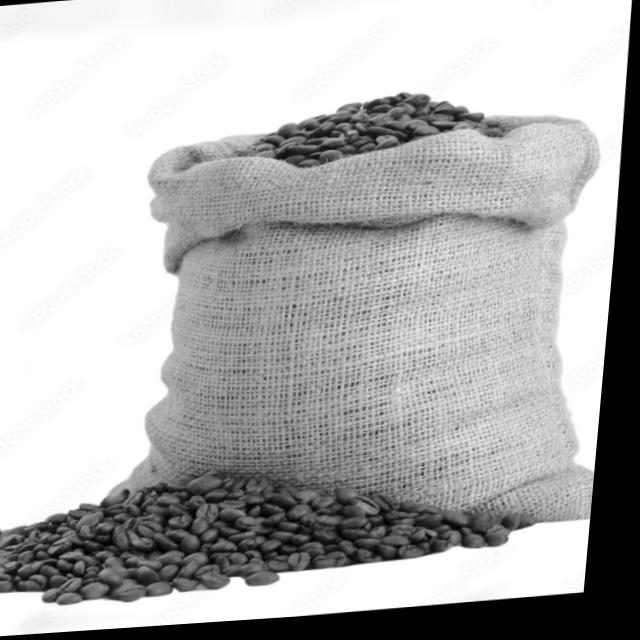sack: (100, 101, 631, 563)
